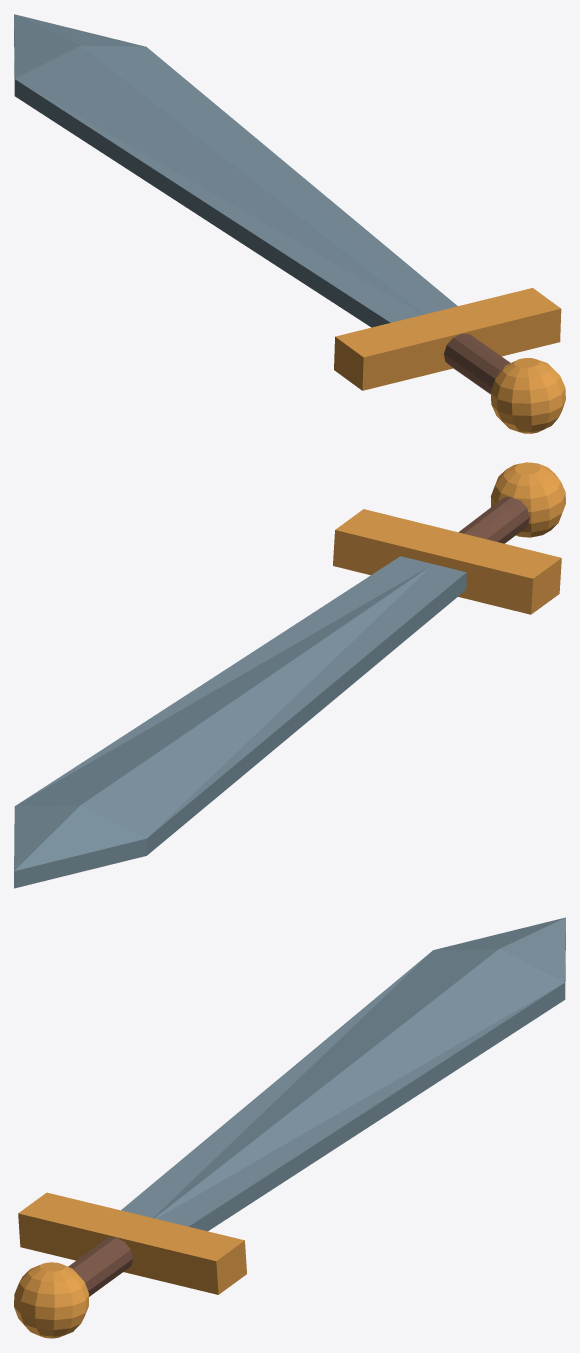
File: sword.glb
3 views of the same model, one above another, from view 1: azimuth 30°, elevation 25°; view 2: azimuth 150°, elevation 25°; view 3: azimuth 330°, elevation 25° (orthographic).
Visible parts, largest first — view 1: group1031189633, group1702364196, group256743220, group1325668123; view 2: group1031189633, group1702364196, group256743220, group1325668123; view 3: group1031189633, group1702364196, group256743220, group1325668123.
Part boxes in pixels (bbox=[...]): group1031189633: bbox=[14, 14, 457, 327]; group1702364196: bbox=[334, 288, 561, 390]; group256743220: bbox=[490, 358, 565, 433]; group1325668123: bbox=[444, 333, 510, 394]; group1031189633: bbox=[14, 556, 466, 888]; group1702364196: bbox=[333, 509, 561, 614]; group256743220: bbox=[490, 462, 565, 537]; group1325668123: bbox=[459, 497, 529, 543]; group1031189633: bbox=[121, 917, 565, 1231]; group1702364196: bbox=[18, 1192, 246, 1294]; group256743220: bbox=[14, 1262, 89, 1338]; group1325668123: bbox=[68, 1237, 133, 1296].
Bounding box in the file's own units: 0.1203 × 0.0399 × 0.5599.
